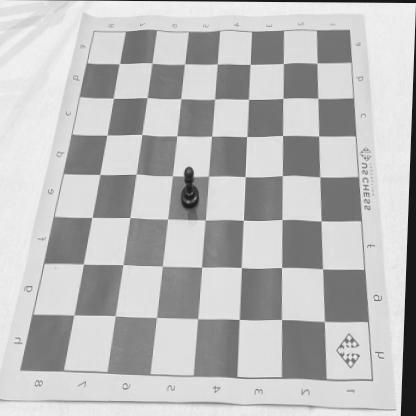black-pawn: (181, 166, 202, 209)
